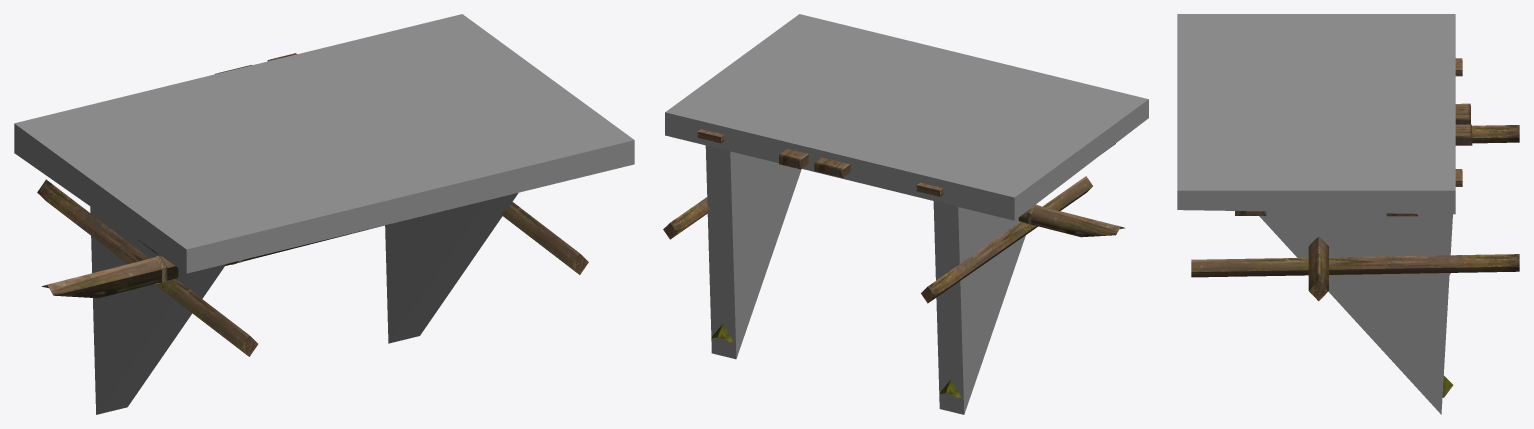
The model's file is Scene_Build_XuanWuShan_KuangShanQiao_3.FBX.
The picture shows the model from 3 angles, left to right: view 1: azimuth 30°, elevation 25°; view 2: azimuth 150°, elevation 25°; view 3: azimuth 270°, elevation 25°; orthographic projection. The views are drawn at different scales.
Parts seen in each view (by area): view 1: Scene_Build_XuanWuShan_KuangShanQiao_3_Xzm, Scene_Build_XuanWuShan_KuangShanQiao_3; view 2: Scene_Build_XuanWuShan_KuangShanQiao_3_Xzm, Scene_Build_XuanWuShan_KuangShanQiao_3; view 3: Scene_Build_XuanWuShan_KuangShanQiao_3_Xzm, Scene_Build_XuanWuShan_KuangShanQiao_3.
Boxes of the visible parts, x1,y1,x2,y2 form: Scene_Build_XuanWuShan_KuangShanQiao_3_Xzm: (14, 14, 634, 414); Scene_Build_XuanWuShan_KuangShanQiao_3: (37, 53, 588, 356); Scene_Build_XuanWuShan_KuangShanQiao_3_Xzm: (665, 14, 1148, 414); Scene_Build_XuanWuShan_KuangShanQiao_3: (663, 129, 1125, 399); Scene_Build_XuanWuShan_KuangShanQiao_3_Xzm: (1177, 14, 1455, 414); Scene_Build_XuanWuShan_KuangShanQiao_3: (1191, 58, 1519, 397).
Size of the model in its own units: 719 by 371 by 470.
